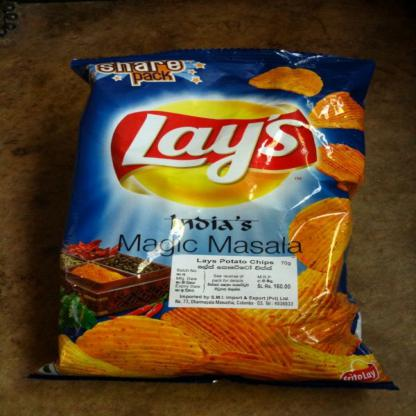potatochip: (25, 35, 410, 394)
